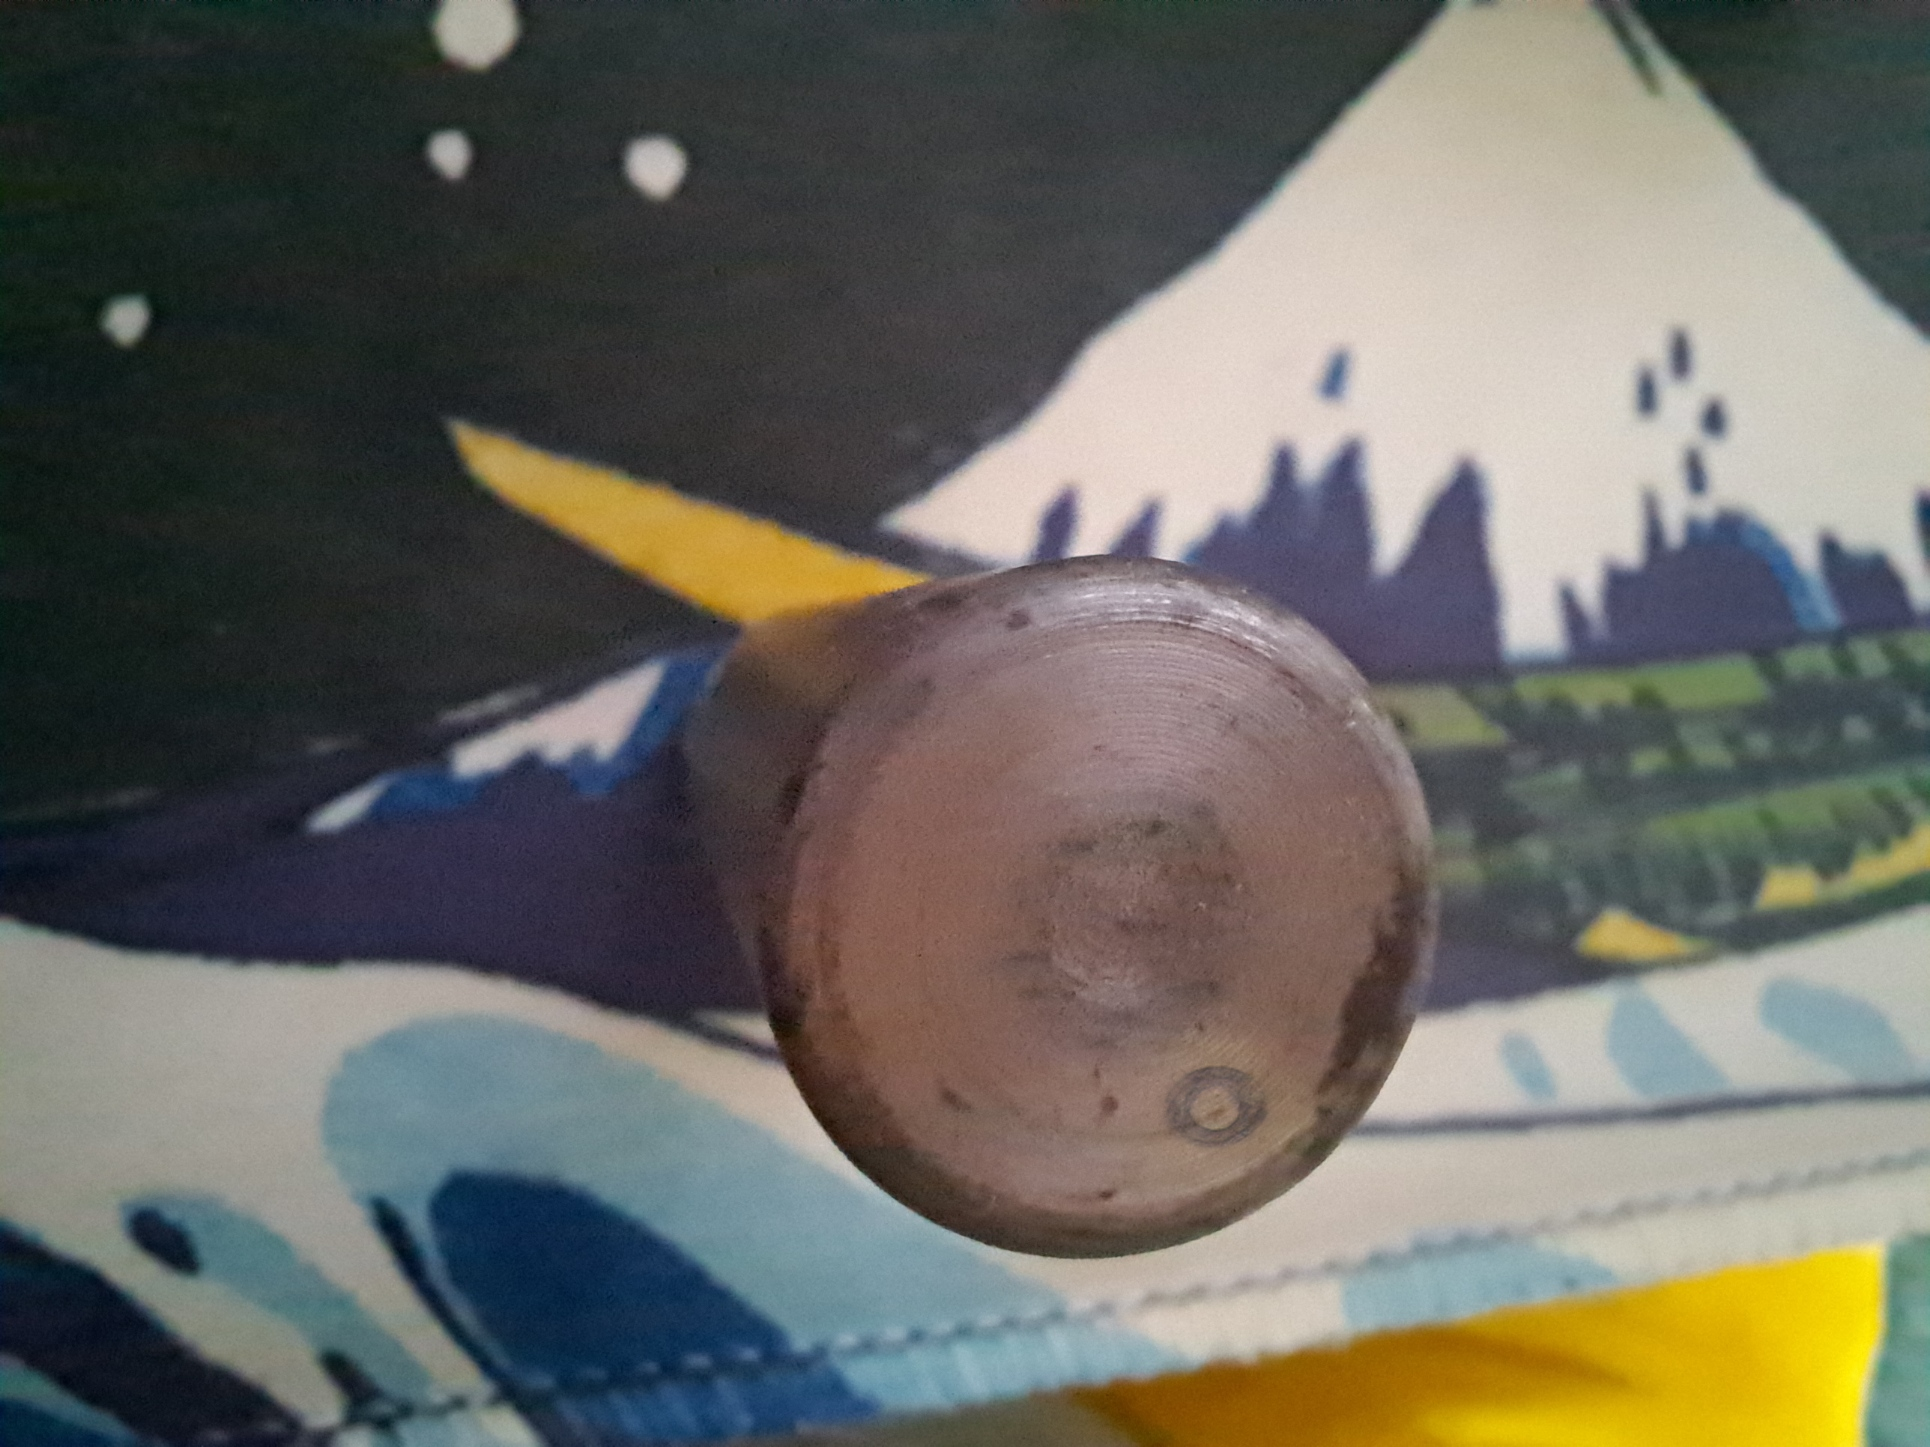плансон: (691, 556, 1435, 1257)
повреждение: (1164, 1062, 1273, 1151)
